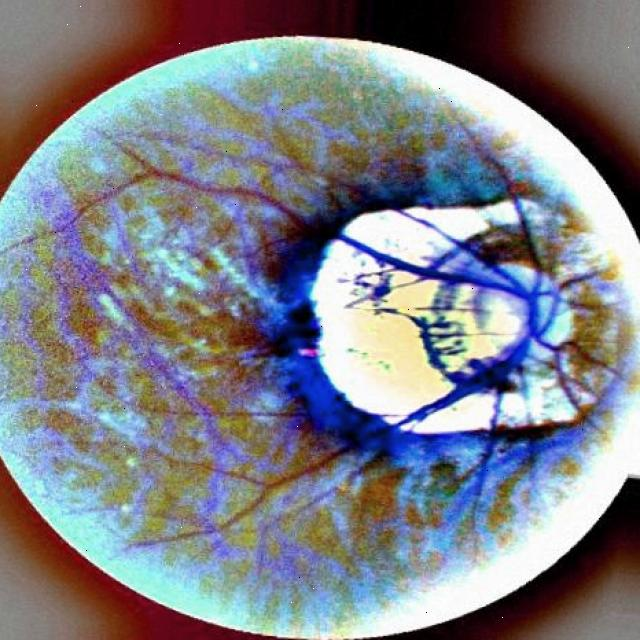Nerves: (312, 196, 584, 431), (147, 169, 312, 225)
Optic Disk: (299, 195, 635, 437)
